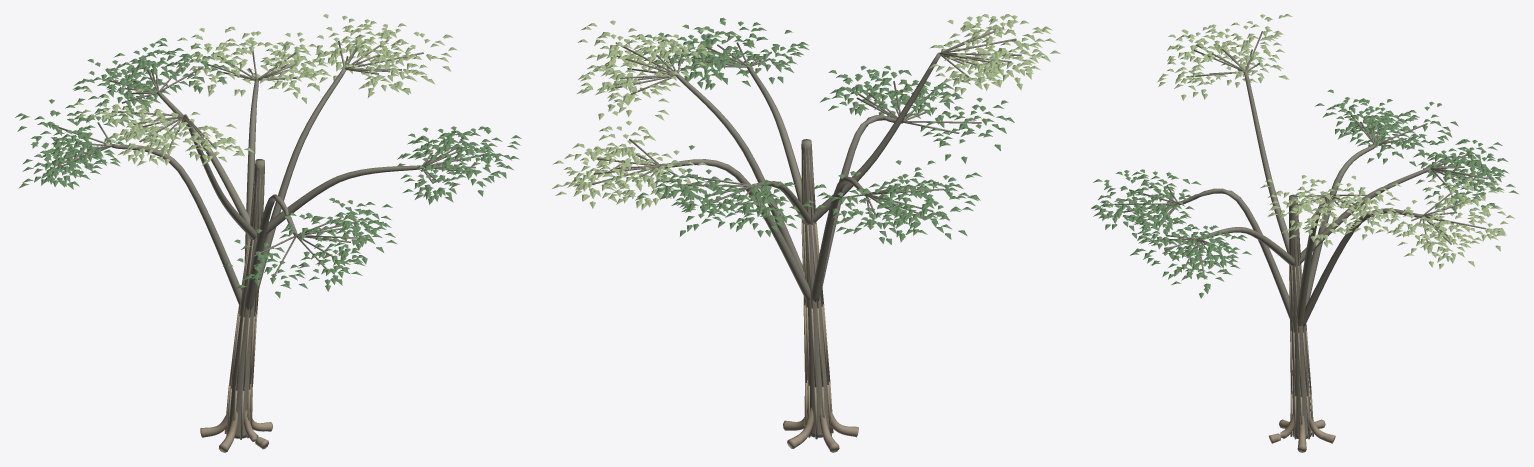
The model's file is grove-specimen-1.glb.
3 renders of one model, left to right at view 1: azimuth 30°, elevation 25°; view 2: azimuth 150°, elevation 25°; view 3: azimuth 270°, elevation 25°, orthographic. The views are drawn at different scales.
Visible parts, largest first — view 1: grove-specimen-1; view 2: grove-specimen-1; view 3: grove-specimen-1.
Part boxes in pixels (x1,y1,x2,y2): grove-specimen-1: (15, 14, 521, 452); grove-specimen-1: (552, 14, 1060, 452); grove-specimen-1: (1091, 14, 1518, 452).
Bounding box in the file's own units: 9.63 × 8.86 × 9.69.
